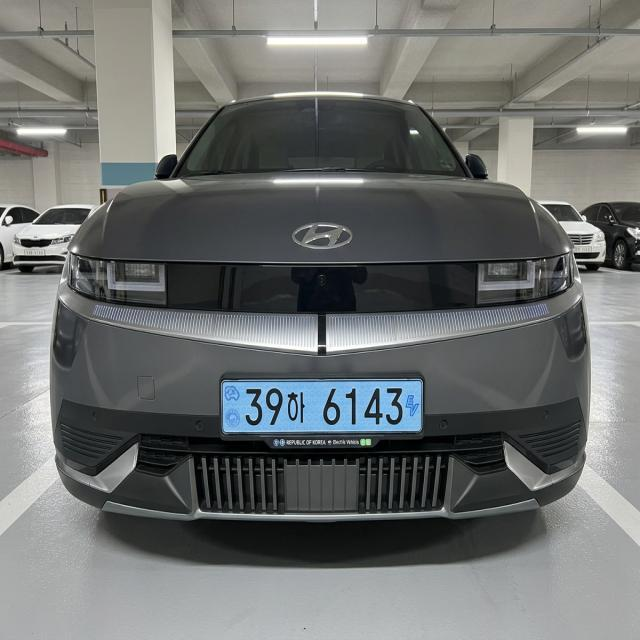car: (203, 348, 445, 468)
carev: (221, 379, 243, 434), (402, 379, 424, 432)
